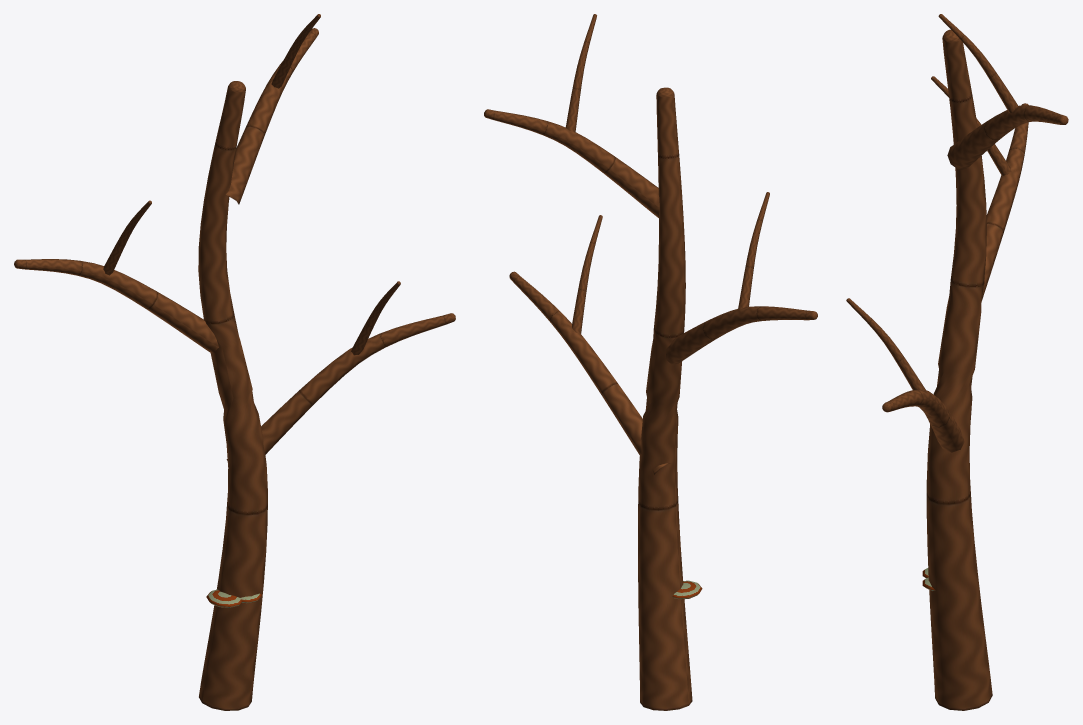
The model's file is birds-and-reptiles-hd-dead-branch-perch-e6b0e881__28113.glb.
The picture shows the model from 3 angles, left to right: view 1: azimuth 30°, elevation 25°; view 2: azimuth 150°, elevation 25°; view 3: azimuth 270°, elevation 25°; orthographic projection. The views are drawn at different scales.
Visible parts, largest first — view 1: dead-branch-perch; view 2: dead-branch-perch; view 3: dead-branch-perch.
Boxes of the visible parts, left/top/right/bottom form: dead-branch-perch: left=14, top=14, right=455, bottom=710; dead-branch-perch: left=484, top=14, right=817, bottom=710; dead-branch-perch: left=846, top=14, right=1068, bottom=710.
Size of the model in its own units: 1.22 by 2.09 by 0.578.
2 materials, 2 textured.
